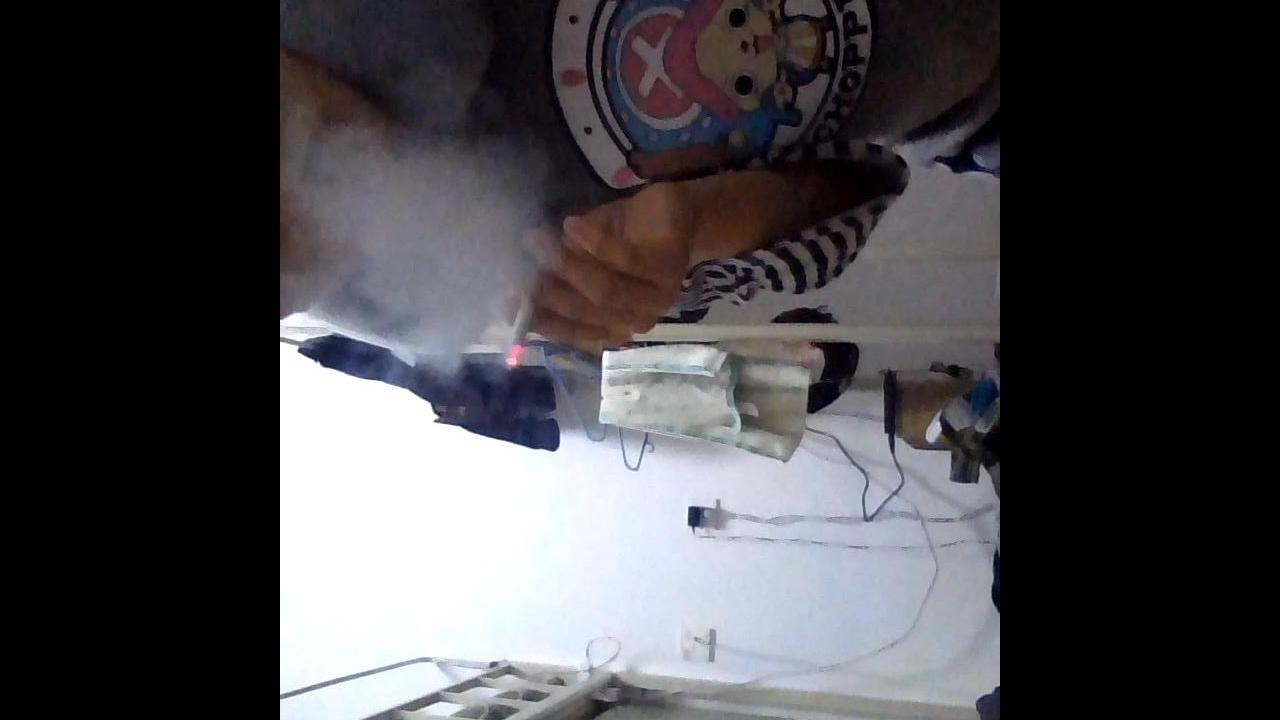Cigarette: (499, 302, 539, 370)
Smoke: (312, 144, 510, 352)
